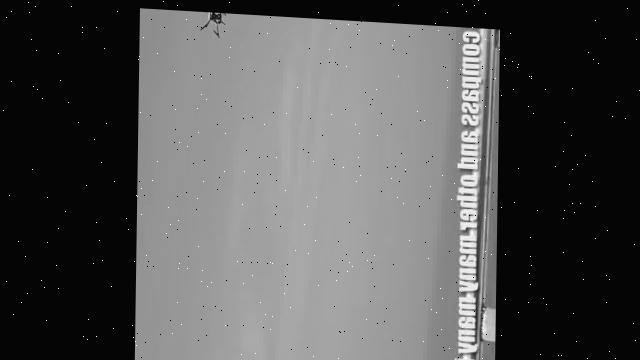drone: (198, 9, 227, 36)
